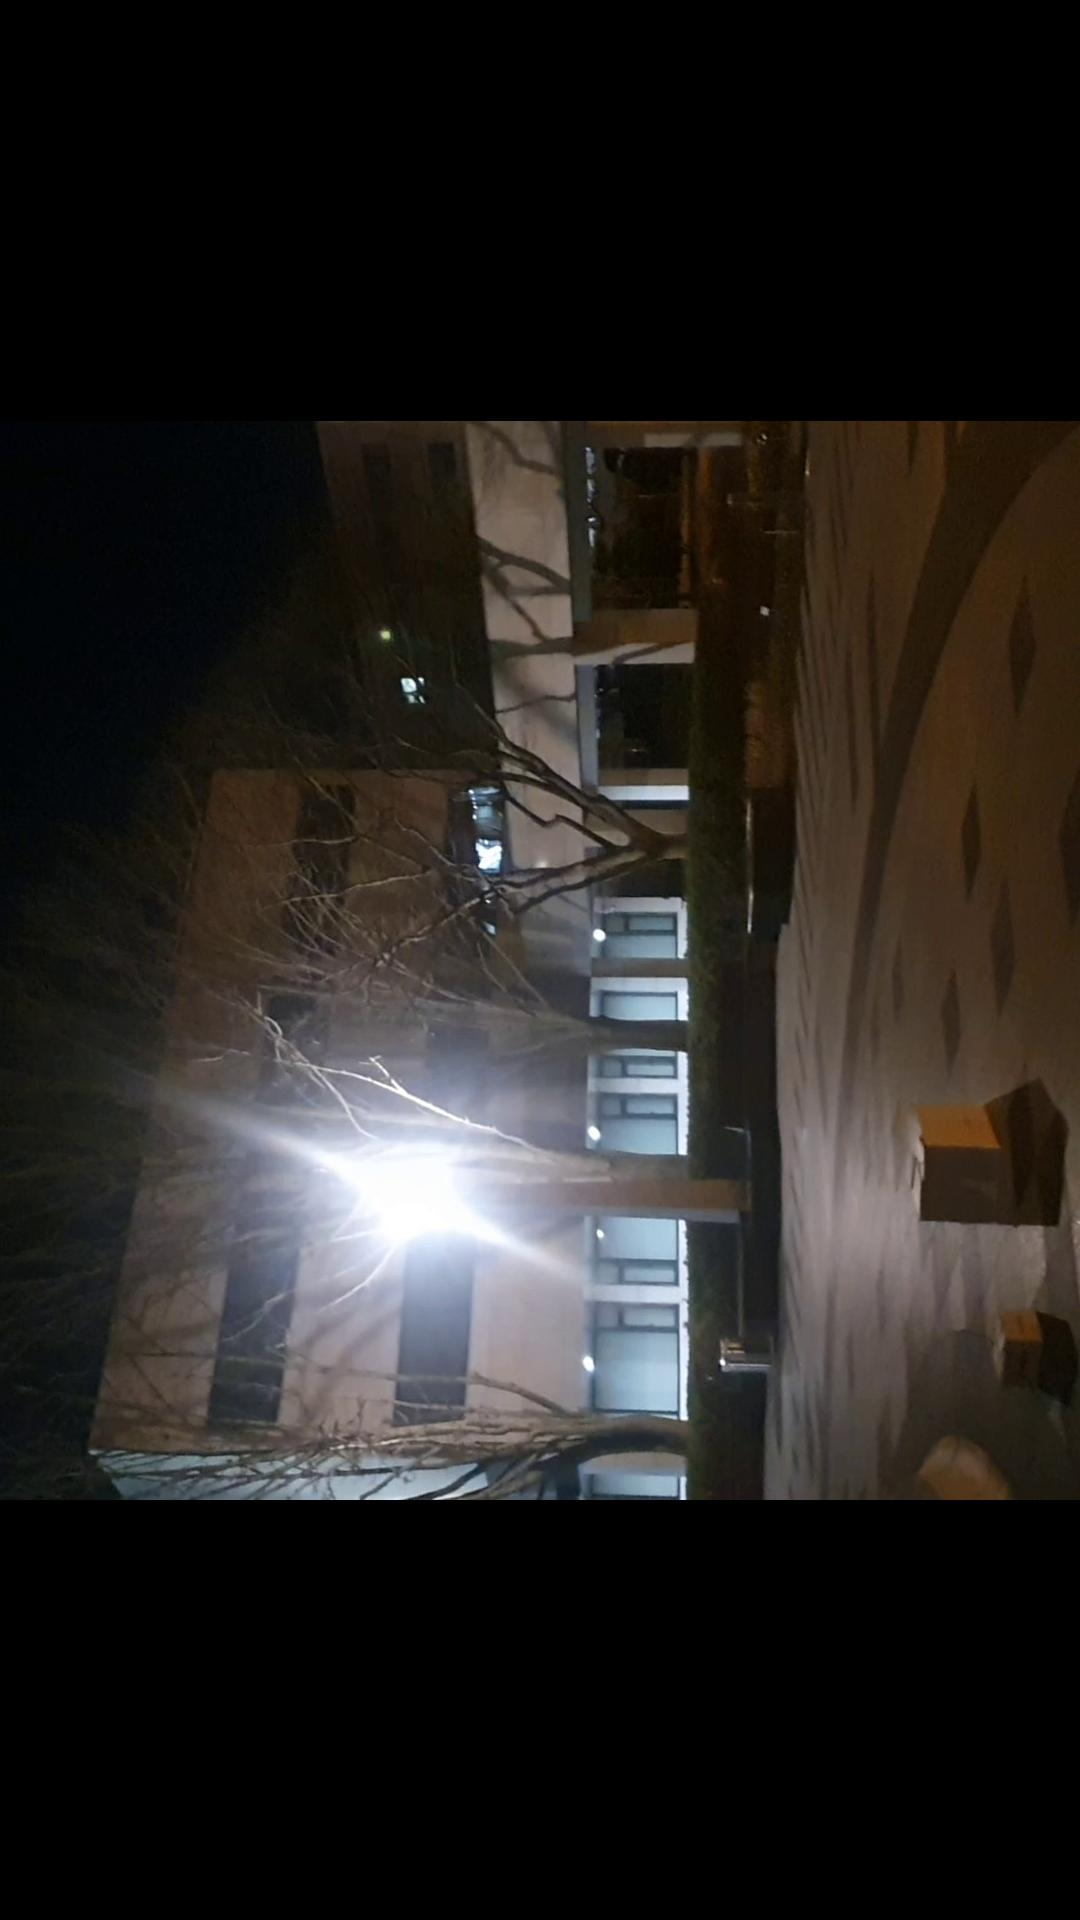Box: (893, 1106, 1029, 1224), (988, 1298, 1055, 1387)
